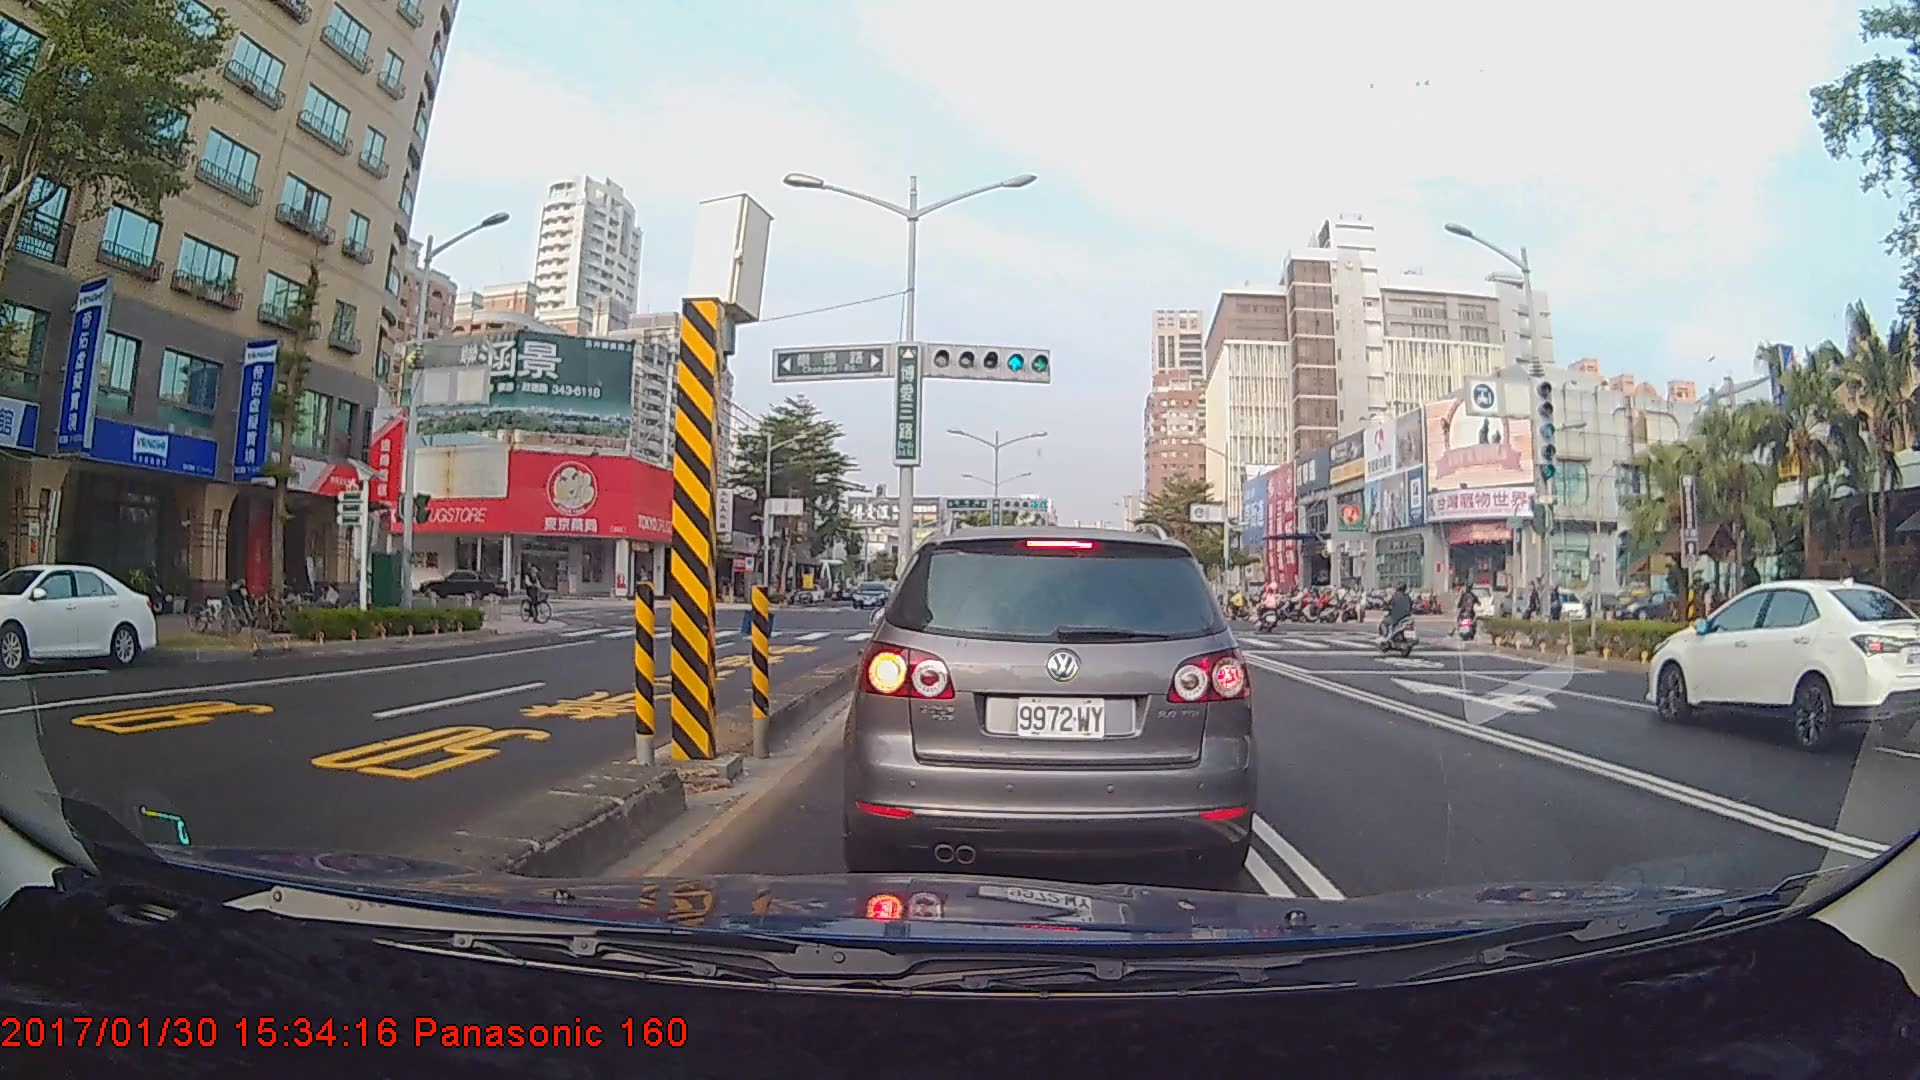rider: (1377, 580, 1429, 657), (518, 559, 561, 629), (1449, 582, 1479, 646), (1258, 580, 1285, 638)
vehicle: (855, 521, 1248, 879), (1646, 576, 1920, 752), (0, 561, 158, 671), (418, 568, 505, 601), (852, 581, 888, 610)
